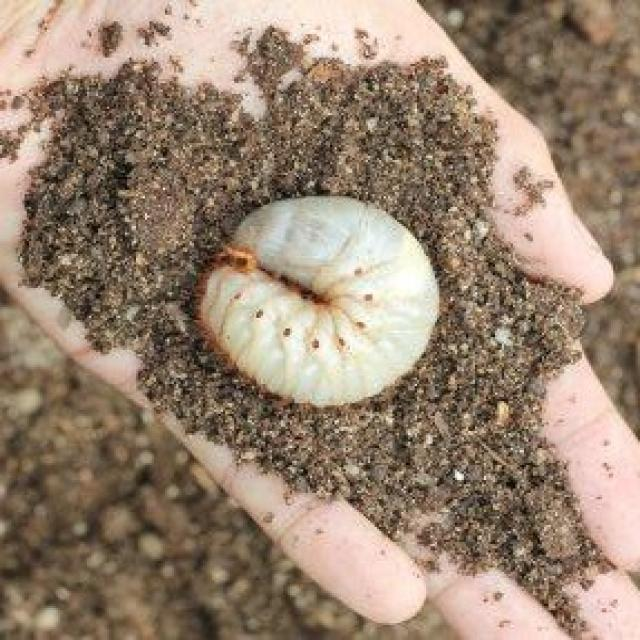grub: (199, 195, 445, 413)
